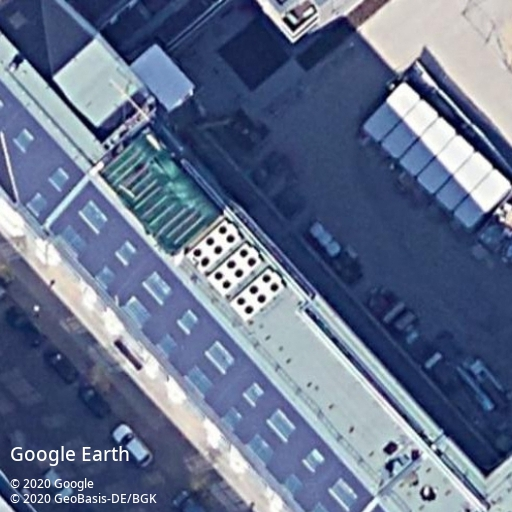Chiller: (229, 266, 286, 321), (187, 219, 242, 273), (208, 242, 263, 296)
